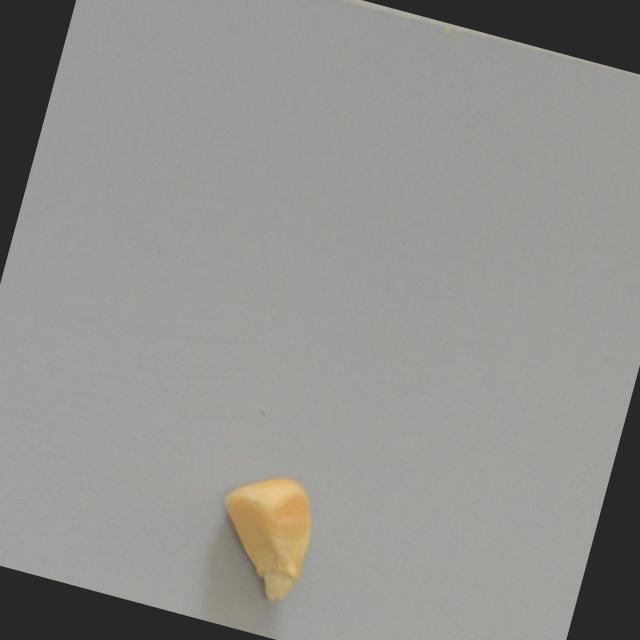entero: (197, 464, 325, 612)
